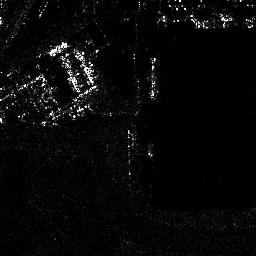ship: (148, 57, 159, 101), (47, 41, 69, 57)
